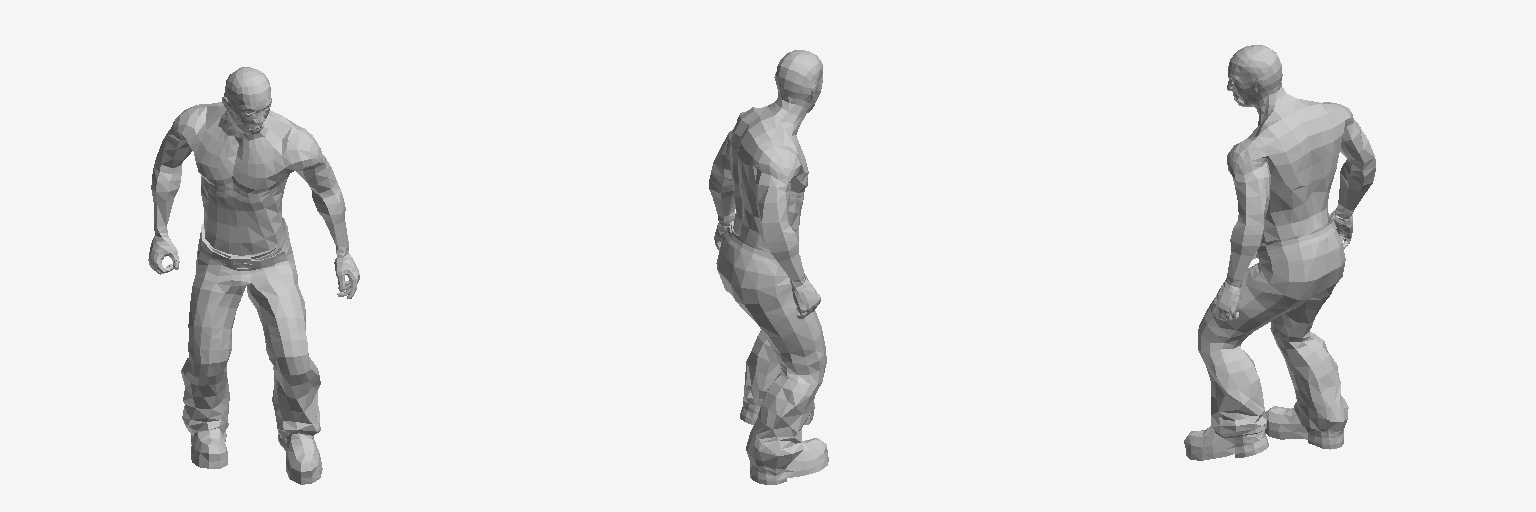
The picture shows the model from 3 angles: view 1: azimuth 30°, elevation 25°; view 2: azimuth 150°, elevation 25°; view 3: azimuth 270°, elevation 25°; orthographic projection.
Visible parts, largest first — view 1: Thug; view 2: Thug; view 3: Thug.
Boxes of the visible parts, box(x1,y1,x2,y2) form: Thug: box(148, 67, 359, 484); Thug: box(709, 50, 828, 484); Thug: box(1184, 45, 1375, 460).
Size of the model in its own units: 70.47 by 173 by 75.74.